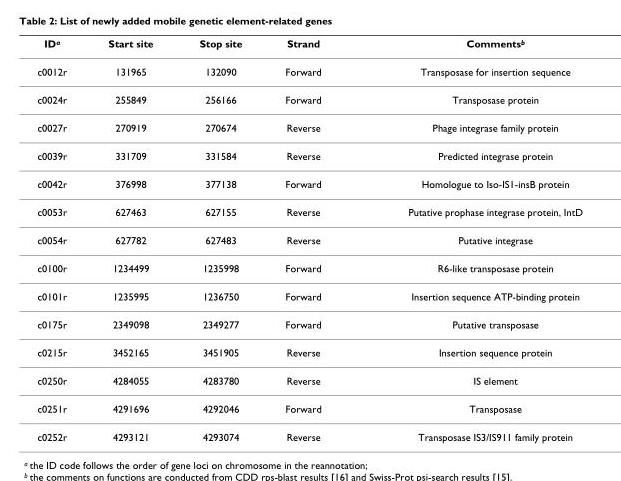table: (36, 36, 581, 442)
table column: (364, 36, 581, 442), (263, 36, 364, 442), (86, 36, 175, 442), (175, 36, 263, 442), (36, 36, 86, 442)
table column header: (36, 36, 581, 57)
table row: (36, 337, 581, 366), (36, 57, 581, 85), (36, 85, 581, 113), (36, 113, 581, 141), (36, 141, 581, 169), (36, 169, 581, 197), (36, 197, 581, 225), (36, 225, 581, 253), (36, 253, 581, 281), (36, 281, 581, 309), (36, 309, 581, 337), (36, 366, 581, 394), (36, 394, 581, 422), (36, 36, 581, 57), (36, 422, 581, 442)
